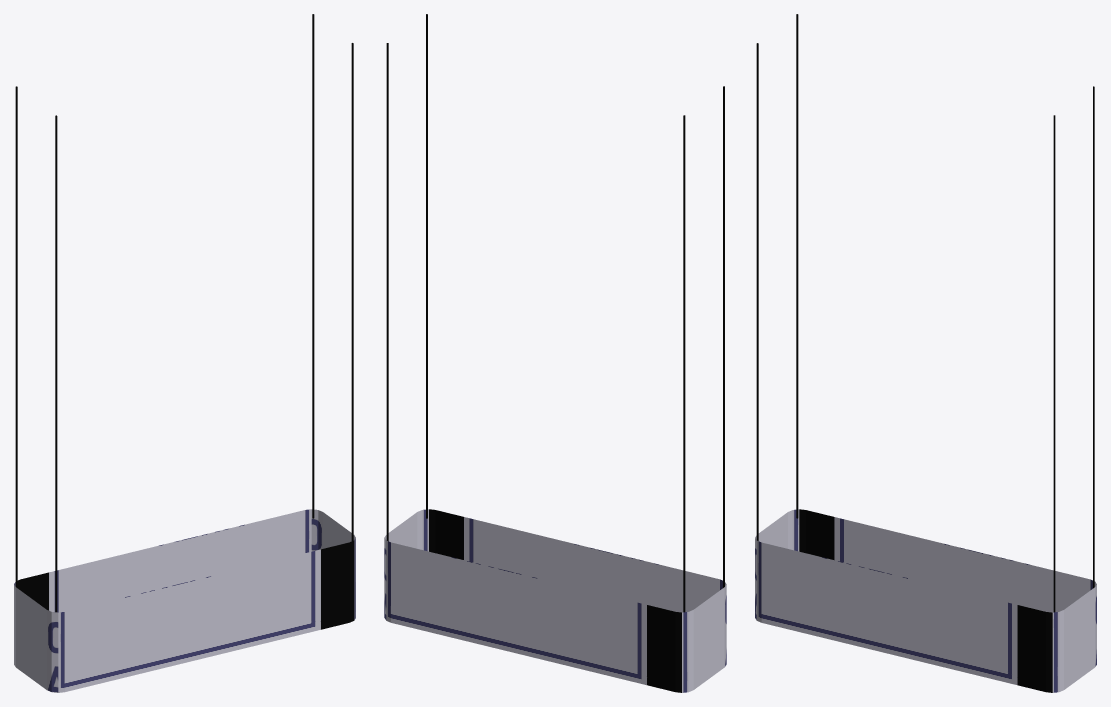
Rendered from stand_main_top_01.fbx.
The picture shows the model from 3 angles, left to right: view 1: azimuth 30°, elevation 25°; view 2: azimuth 150°, elevation 25°; view 3: azimuth 330°, elevation 25°; orthographic projection.
Visible parts, largest first — view 1: stand_main_top_01; view 2: stand_main_top_01; view 3: stand_main_top_01.
Boxes of the visible parts, x1=… form: stand_main_top_01: x1=14, y1=14, x2=355, y2=692; stand_main_top_01: x1=384, y1=14, x2=726, y2=692; stand_main_top_01: x1=755, y1=14, x2=1096, y2=692.
Bounding box in the file's own units: 600 × 1075 × 150.
